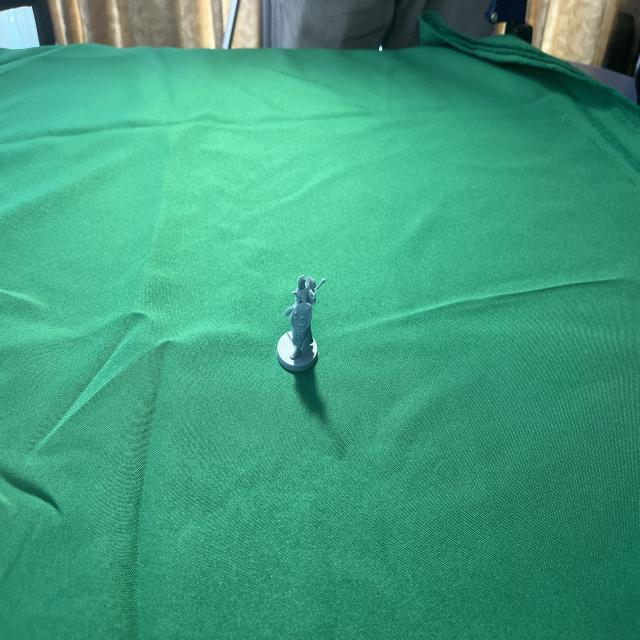isis_follower: (274, 273, 324, 380)
